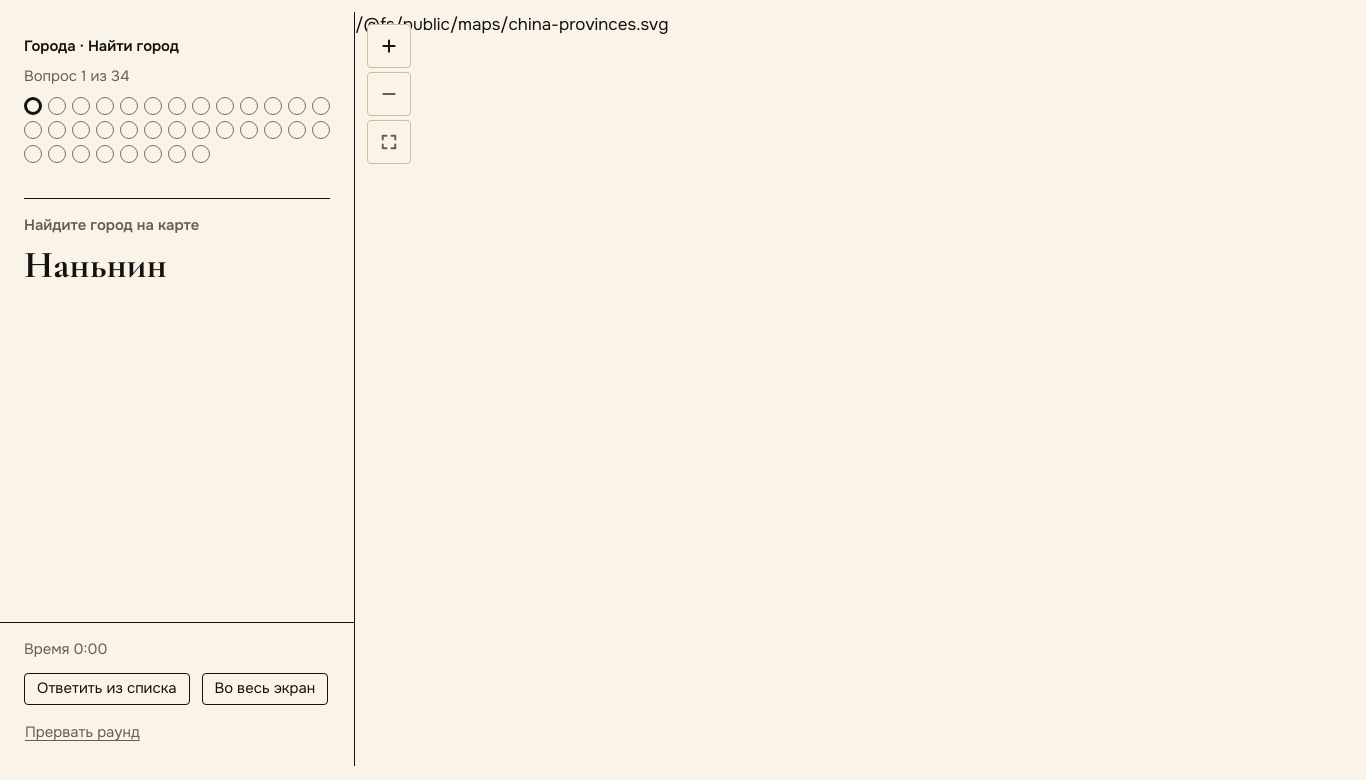
Scenario: спрашивает город по имени и принимает ответ из равнозначного списка
Click the button "Ответить из списка": (107, 689) [24, 673, 190, 705]
(page scrolled)
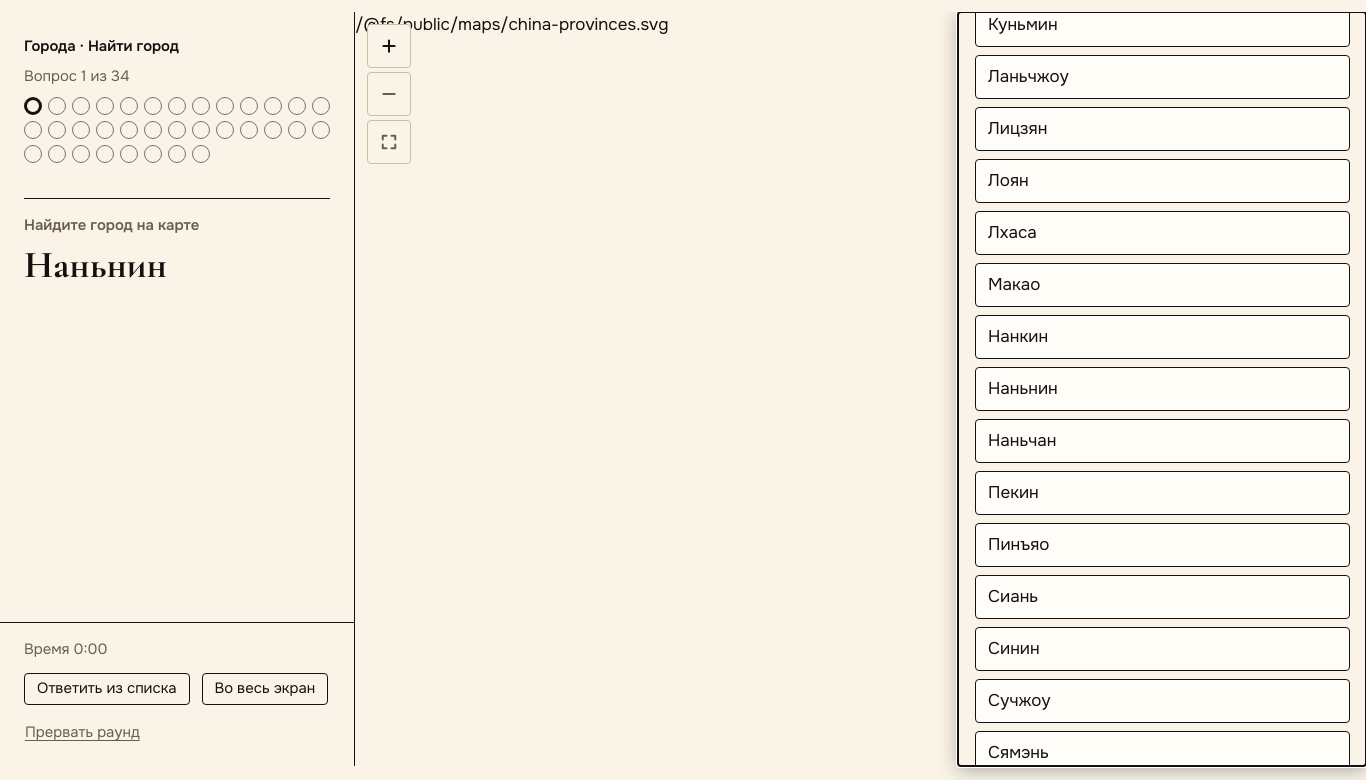
Click the button "Наньнин": (1023, 389) [975, 367, 1350, 411]
Wait 500 ms
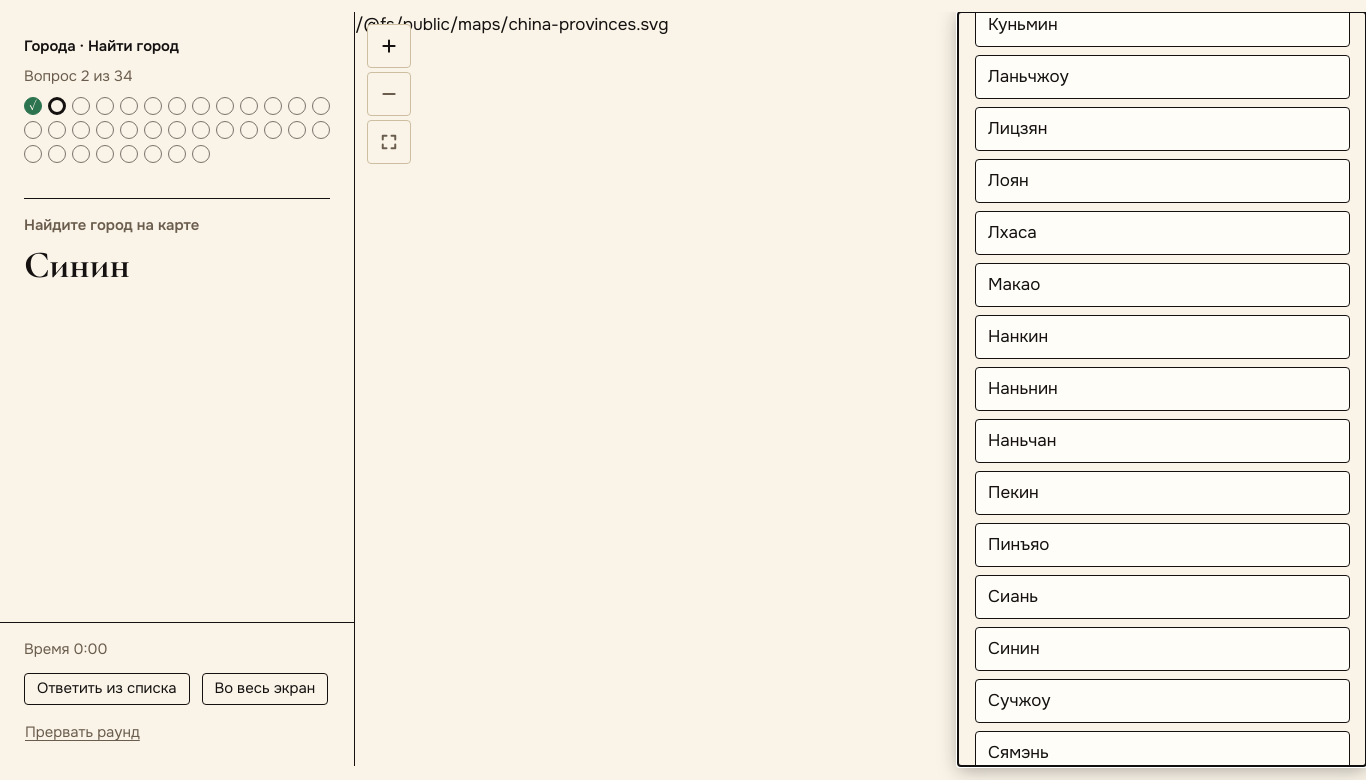
Expected: the element with test id "exercise-target" no longer shows "Наньнин"
